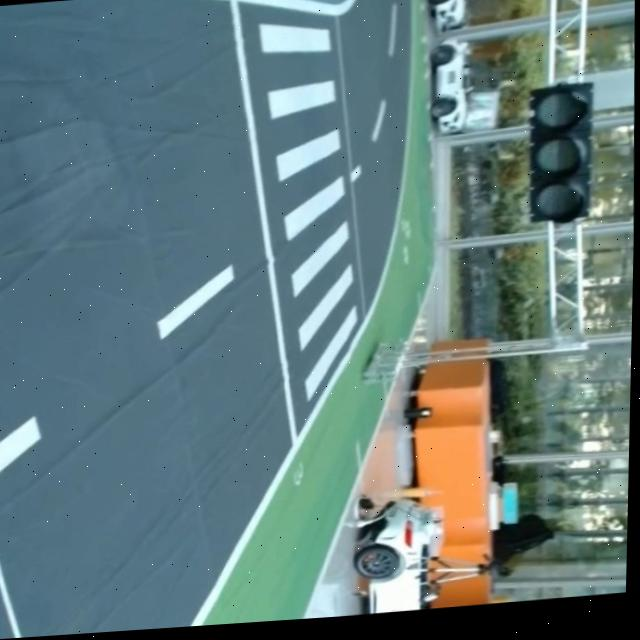traffic-light: (522, 73, 599, 230)
